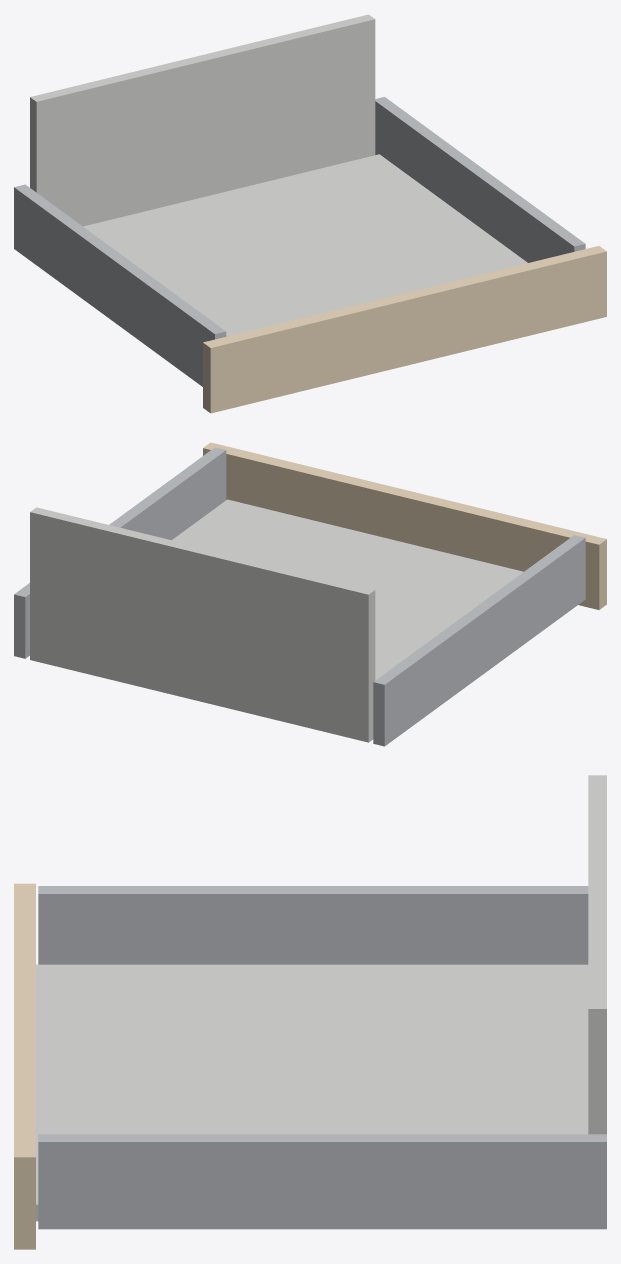
File: M1_utr.glb
3 renders of one model, top to bottom at view 1: azimuth 30°, elevation 25°; view 2: azimuth 150°, elevation 25°; view 3: azimuth 270°, elevation 25°, orthographic. The views are drawn at different scales.
Size of the model in its own units: 558 by 210 by 511.
